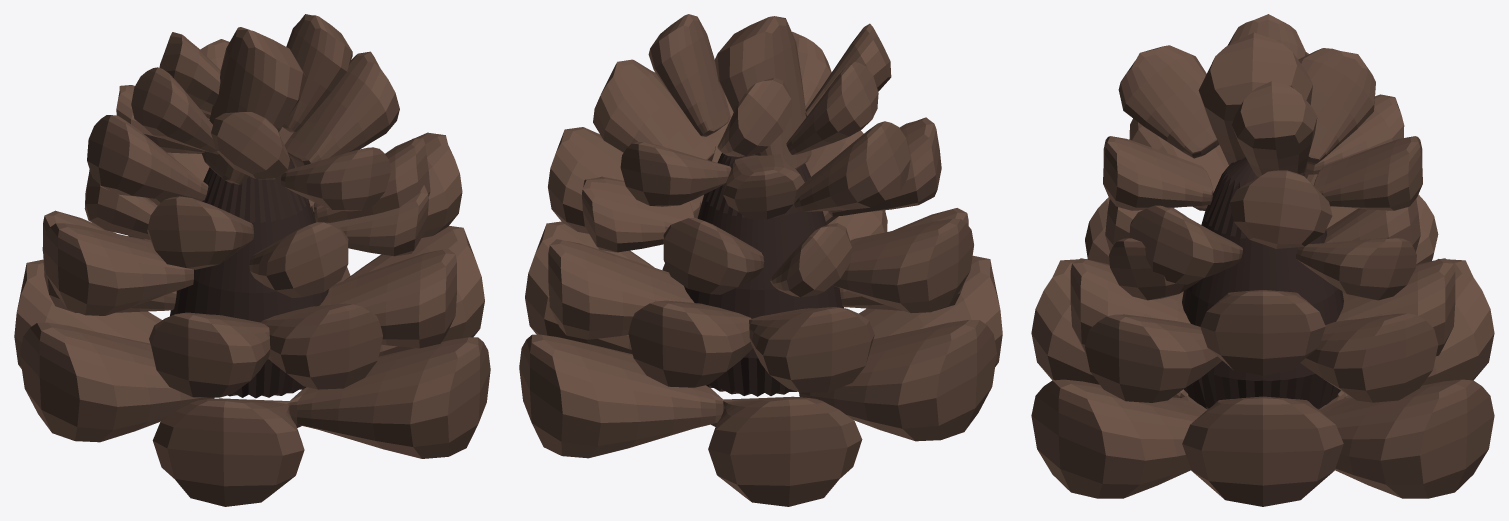
The model's file is pinecone.fbx.
The picture shows the model from 3 angles, left to right: view 1: azimuth 30°, elevation 25°; view 2: azimuth 150°, elevation 25°; view 3: azimuth 270°, elevation 25°; orthographic projection. The views are drawn at different scales.
Visible parts, largest first — view 1: Cube.001; view 2: Cube.001; view 3: Cube.001.
Boxes of the visible parts, bbox=[...] form: Cube.001: bbox=[14, 14, 490, 506]; Cube.001: bbox=[519, 14, 1002, 506]; Cube.001: bbox=[1031, 14, 1494, 506].
Bounding box in the file's own units: 0.0453 × 0.04 × 0.0416.
